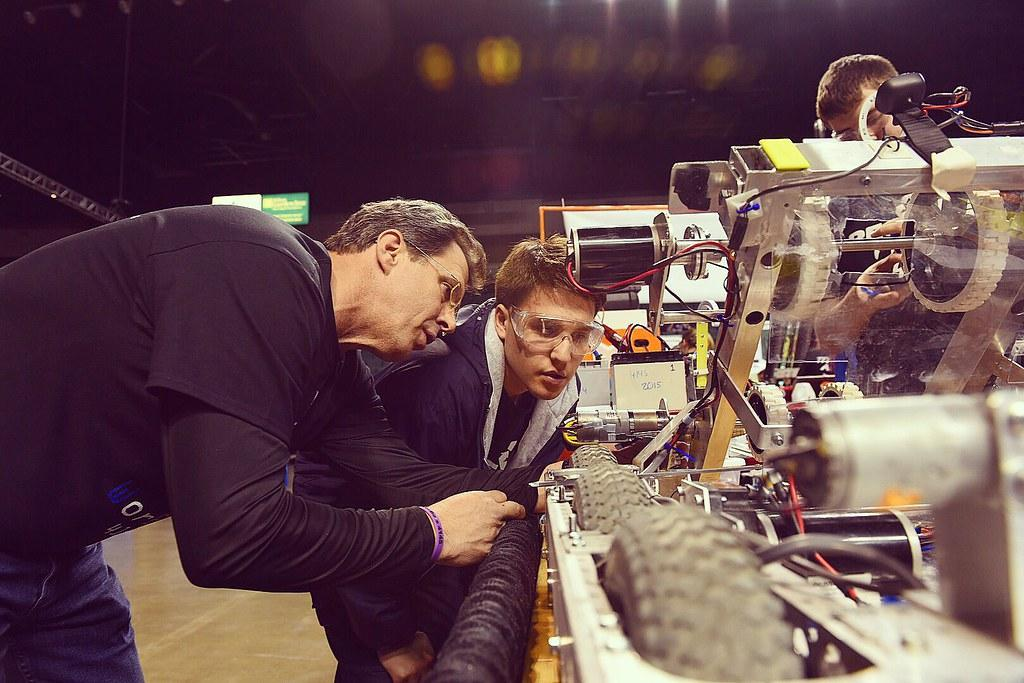robot: (413, 66, 1024, 683)
